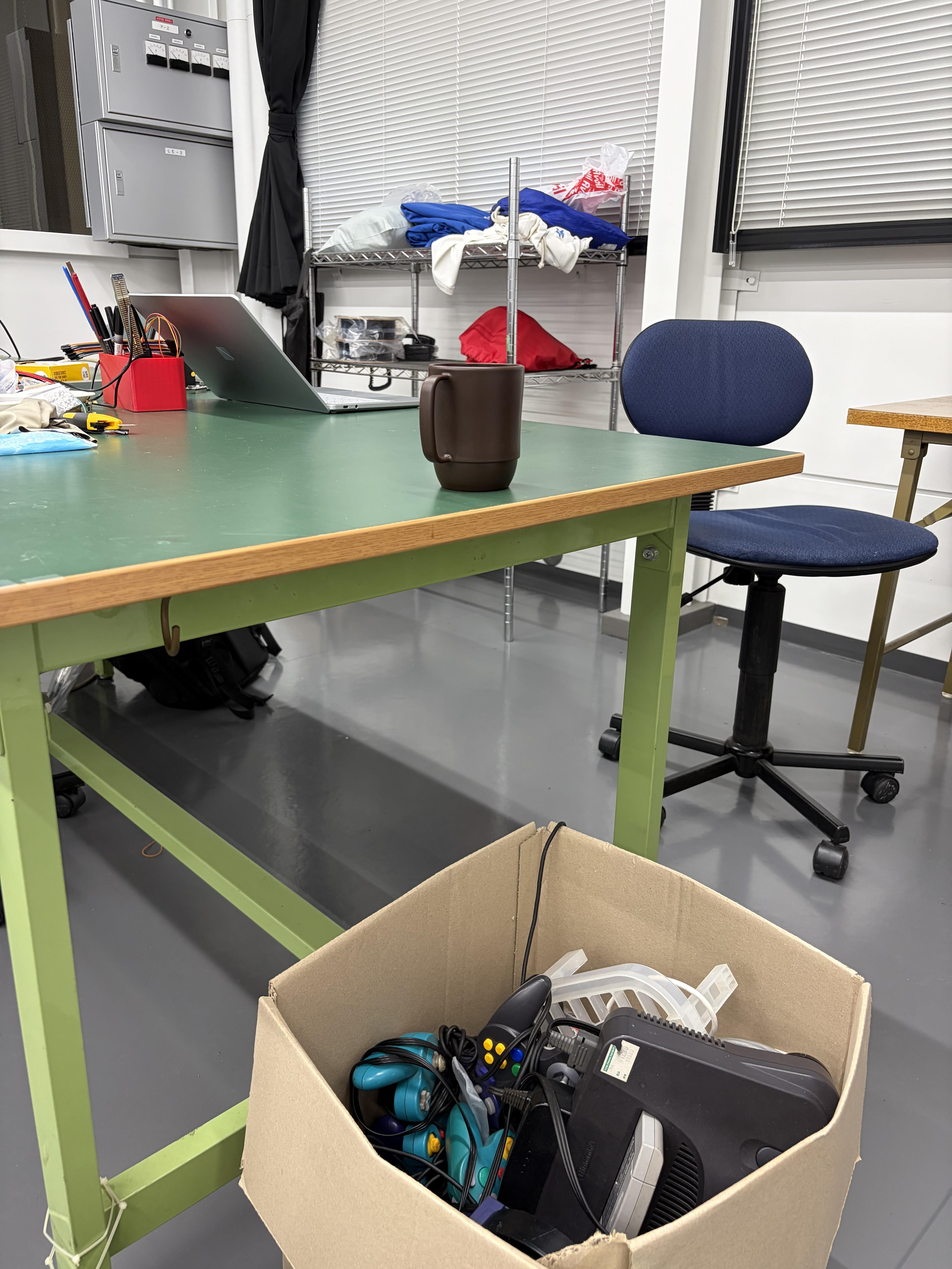mug-real100-3d100: (419, 362, 524, 492)
